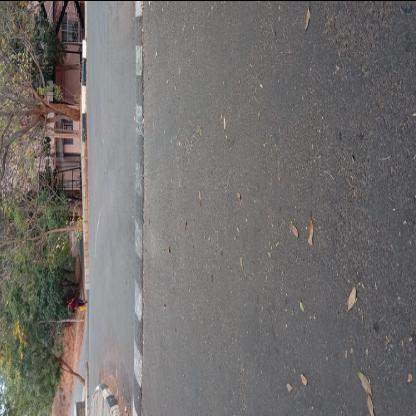speed-bumps: (123, 1, 152, 415)
